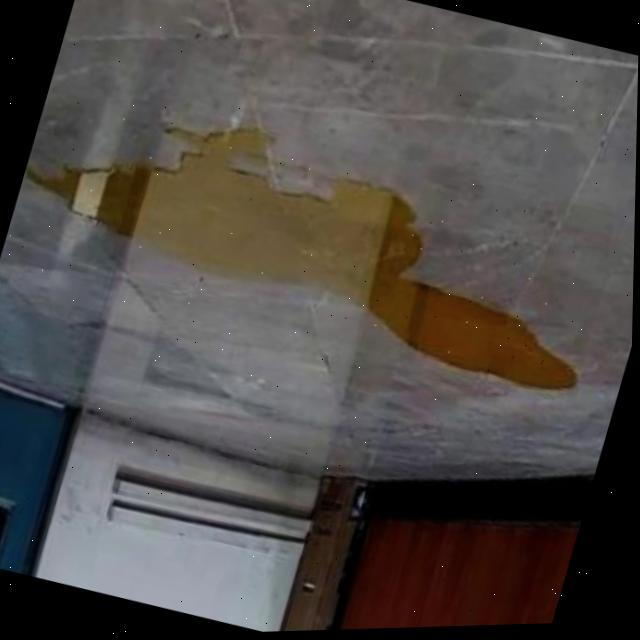spillage: (29, 129, 580, 393)
